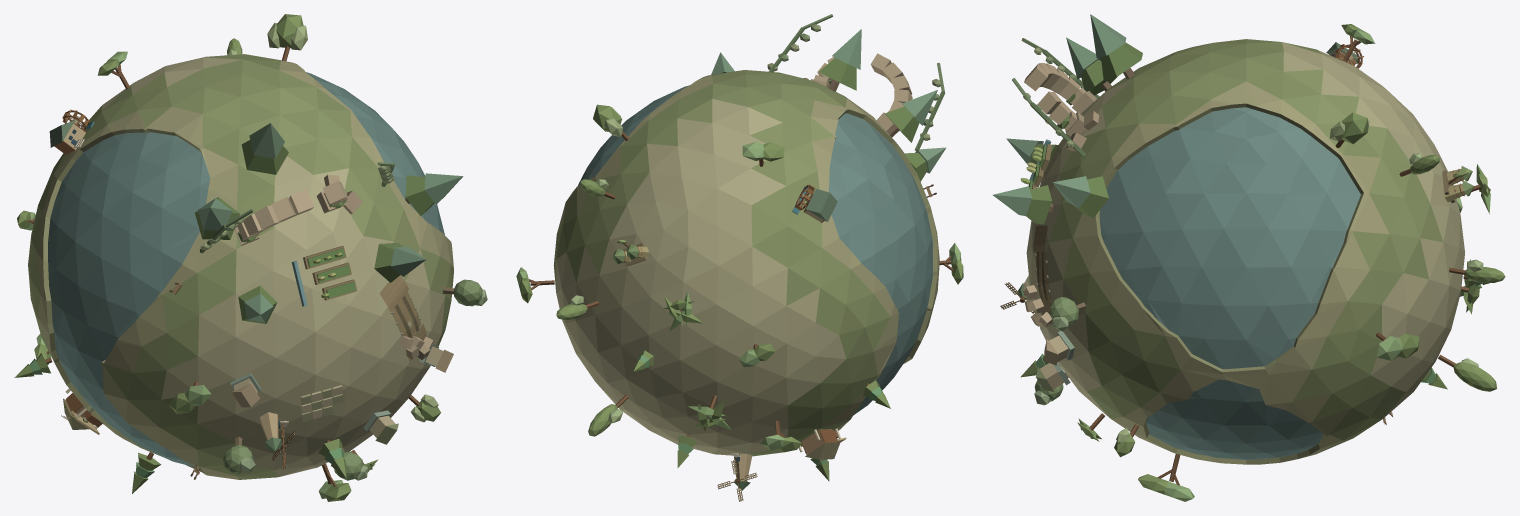
The model's file is earth-mobile.glb.
3 renders of one model, left to right at view 1: azimuth 30°, elevation 25°; view 2: azimuth 150°, elevation 25°; view 3: azimuth 270°, elevation 25°, orthographic. The views are drawn at different scales.
Visible parts, largest first — view 1: Terrain • modeled surfaces, Structures • modeled surfaces, Activity_cargo-cycle_road • modeled surfaces; view 2: Terrain • modeled surfaces, Structures • modeled surfaces; view 3: Terrain • modeled surfaces, Structures • modeled surfaces, Activity_cargo-cycle_road • modeled surfaces.
Part boxes in pixels (left/top/right/bottom): Terrain • modeled surfaces: left=28, top=54, right=453, bottom=479; Structures • modeled surfaces: left=14, top=14, right=487, bottom=501; Activity_cargo-cycle_road • modeled surfaces: left=379, top=275, right=426, bottom=361; Terrain • modeled surfaces: left=553, top=70, right=939, bottom=456; Structures • modeled surfaces: left=516, top=14, right=963, bottom=501; Terrain • modeled surfaces: left=1026, top=39, right=1464, bottom=464; Structures • modeled surfaces: left=993, top=14, right=1505, bottom=501; Activity_cargo-cycle_road • modeled surfaces: left=1033, top=226, right=1052, bottom=323.
Bounding box in the file's own units: 2.08 × 2.28 × 2.44.
